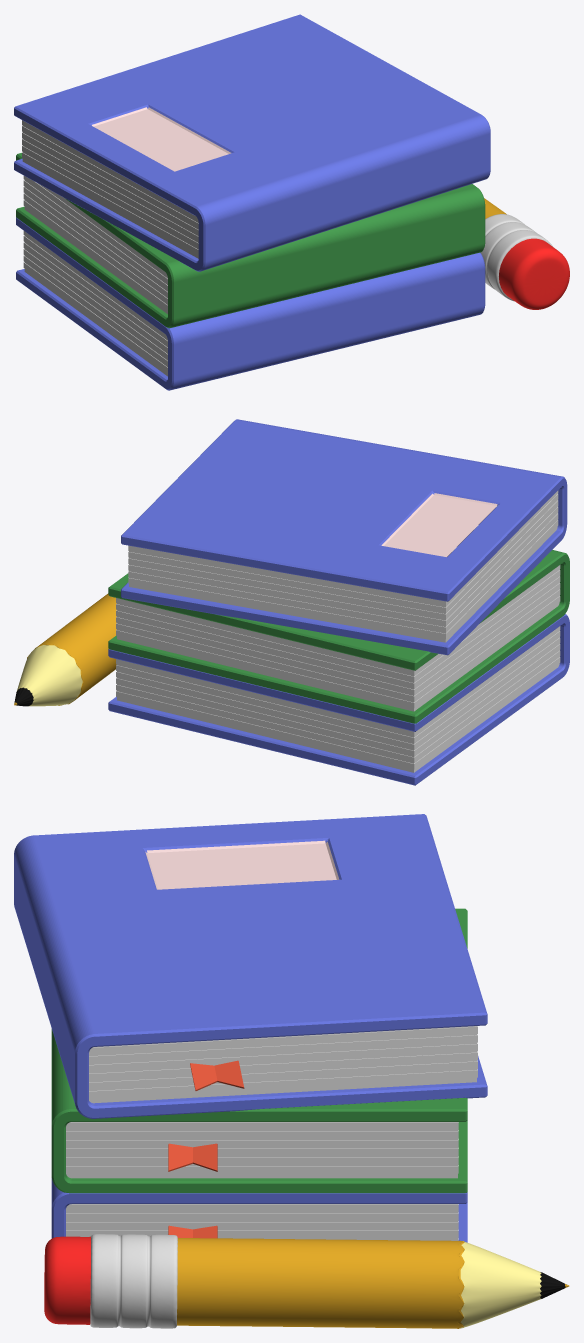
The model's file is book_n_pencil.glb.
3 views of the same model, one above another, from view 1: azimuth 30°, elevation 25°; view 2: azimuth 150°, elevation 25°; view 3: azimuth 270°, elevation 25° (orthographic). The views are drawn at different scales.
Visible parts, largest first — view 1: Plane003; view 2: Plane003; view 3: Plane003.
Part boxes in pixels (x1=…): Plane003: x1=14, y1=14, x2=569, y2=390; Plane003: x1=14, y1=419, x2=569, y2=785; Plane003: x1=14, y1=814, x2=569, y2=1328.
Size of the model in its own units: 0.4566 by 0.2069 by 0.3979.
